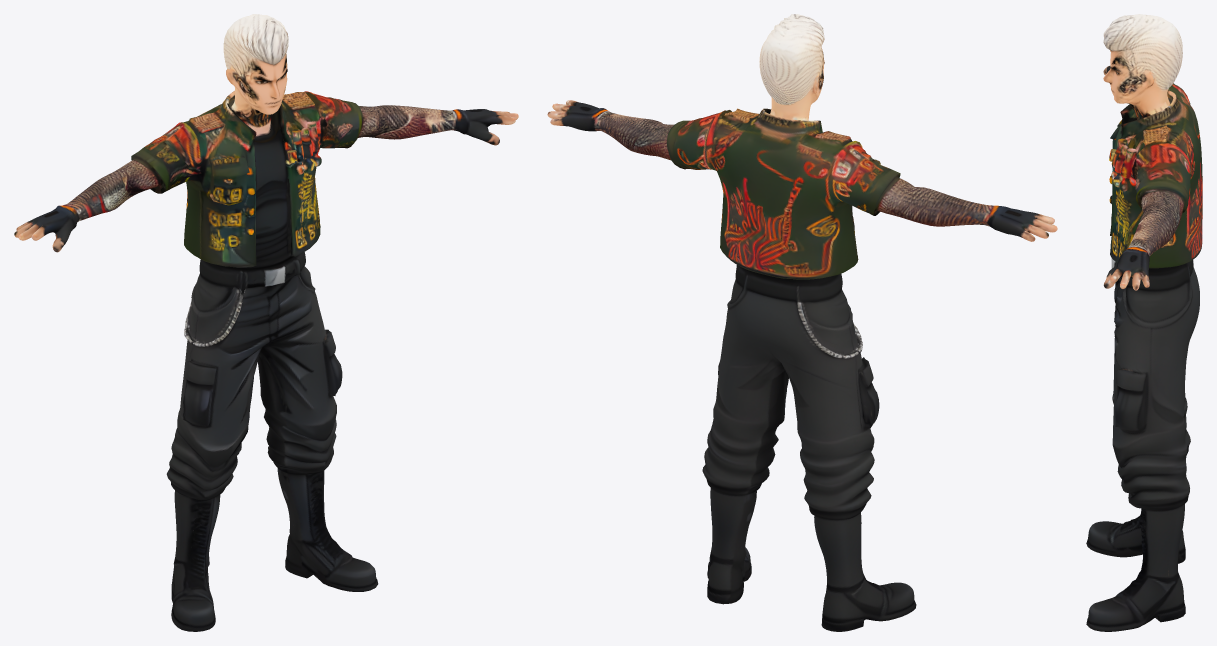
File: base_basic_shaded.fbx
3 views of the same model, side by side, from view 1: azimuth 30°, elevation 25°; view 2: azimuth 150°, elevation 25°; view 3: azimuth 270°, elevation 25° (orthographic).
Parts seen in each view (by area): view 1: model; view 2: model; view 3: model.
Boxes of the visible parts, x1,y1,x2,y2 form: model: (14, 14, 518, 631); model: (547, 14, 1057, 631); model: (1086, 14, 1202, 631).
Size of the model in its own units: 167 by 184 by 33.85.
